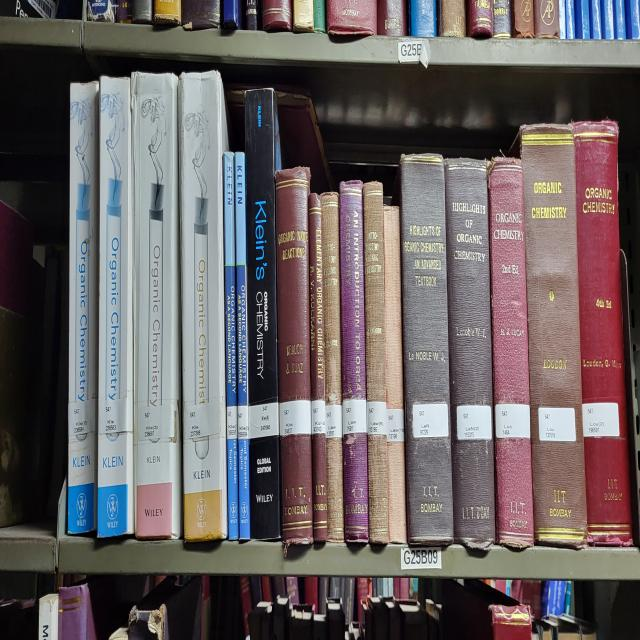Book: (516, 124, 588, 547), (572, 122, 632, 547), (131, 73, 182, 538), (179, 70, 228, 541), (399, 154, 454, 544), (444, 160, 495, 549), (96, 76, 135, 538), (488, 157, 534, 547), (245, 89, 281, 541), (275, 168, 314, 544), (68, 81, 99, 533), (340, 181, 369, 544), (364, 181, 389, 544), (321, 192, 344, 541), (384, 206, 406, 544), (309, 192, 328, 541), (235, 152, 250, 541), (224, 154, 239, 541)
Label: (98, 395, 132, 436), (582, 403, 620, 438), (412, 403, 449, 438), (539, 406, 576, 441), (456, 406, 492, 441), (495, 403, 530, 438), (249, 400, 279, 438), (280, 400, 311, 436), (69, 398, 96, 438), (342, 398, 366, 436), (366, 400, 386, 436), (386, 409, 405, 441), (325, 403, 342, 438), (311, 400, 326, 436), (238, 403, 249, 441), (226, 406, 238, 438)
